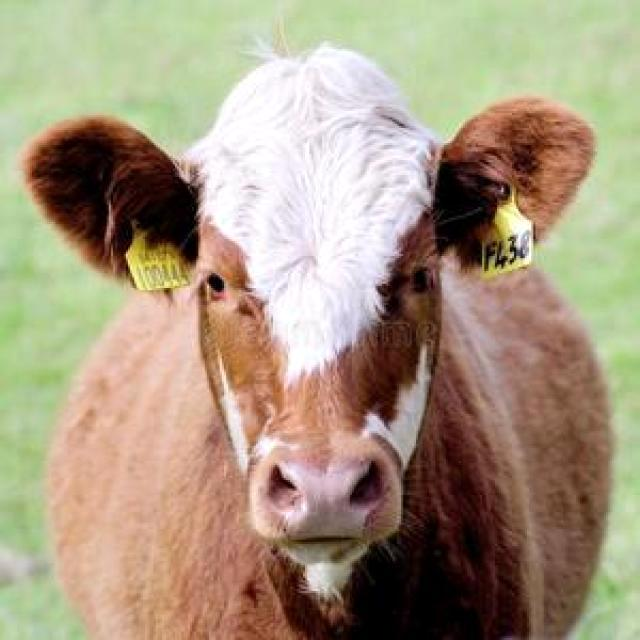COW: (24, 46, 609, 640)
